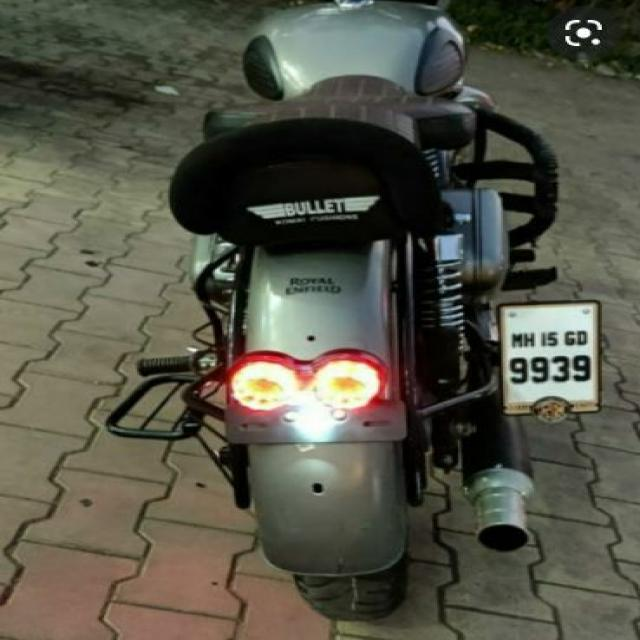license_plate: (494, 297, 602, 416)
